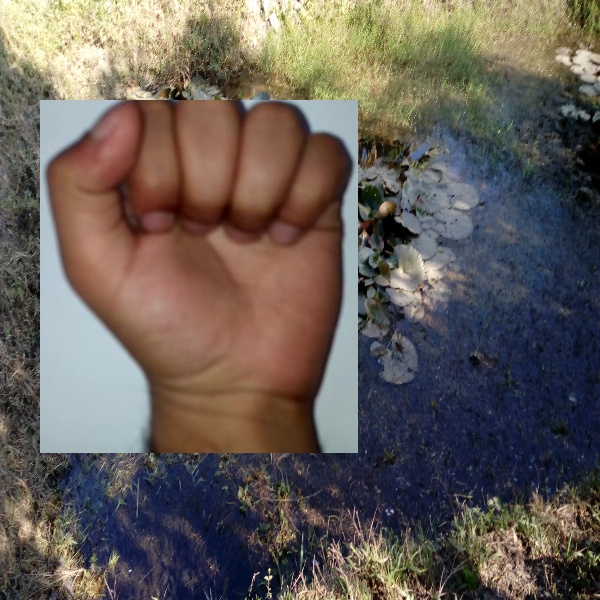A: (40, 100, 358, 453)
